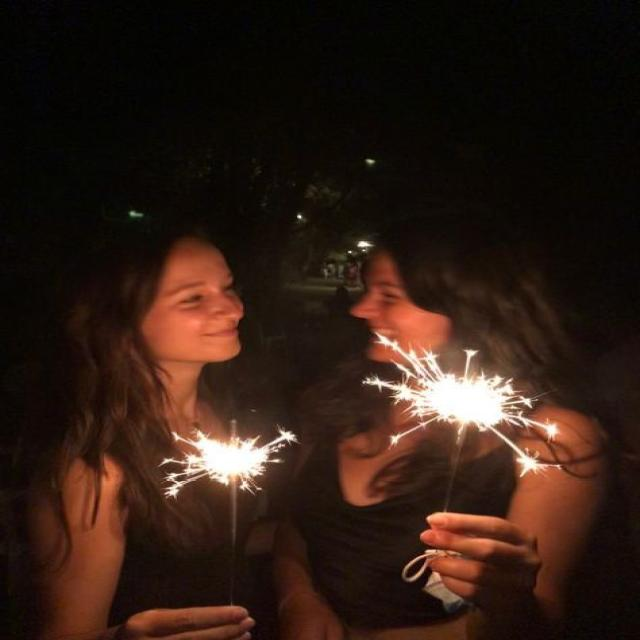fire: (188, 432, 268, 484), (430, 376, 506, 422)
